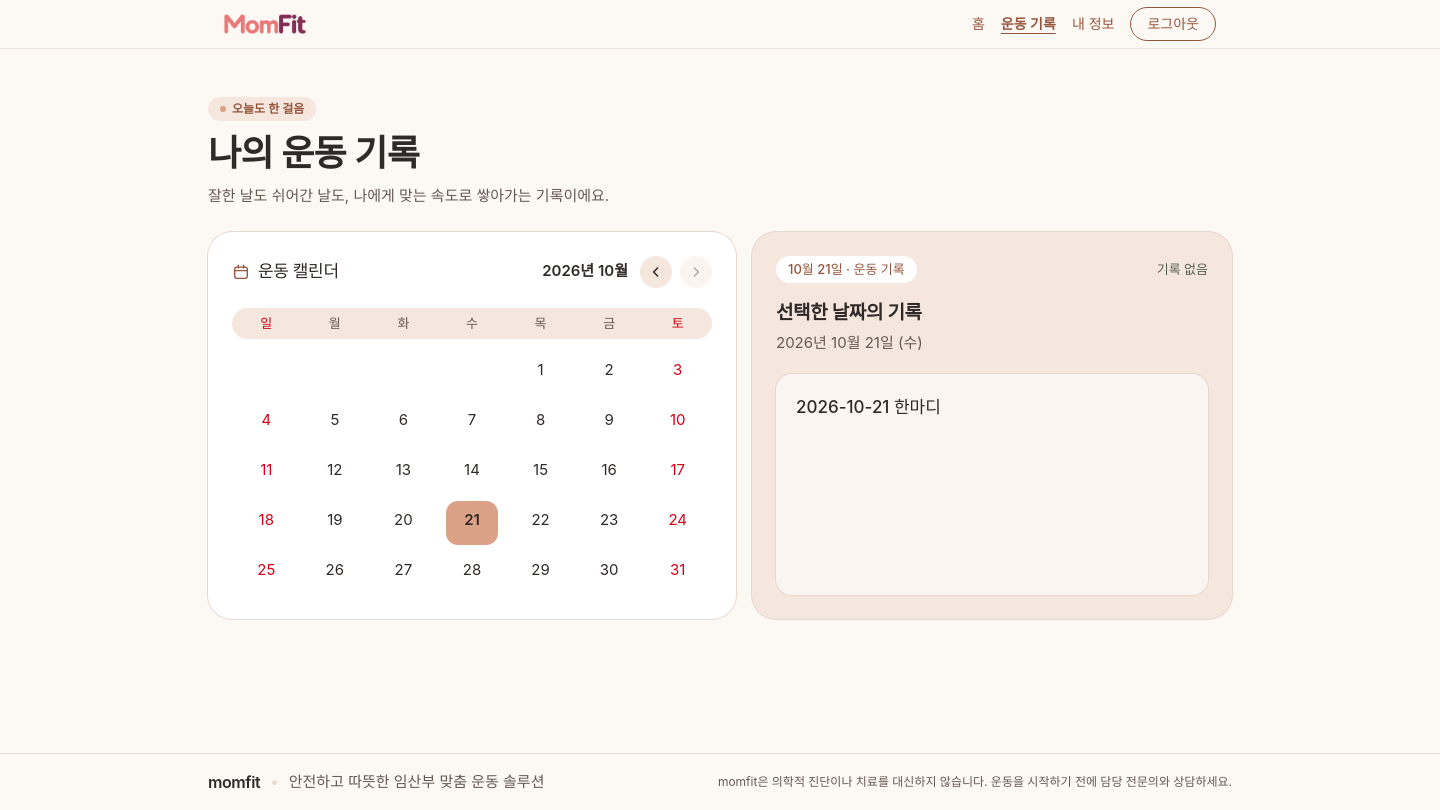
Test: RecordsPage › 아직 오지 않은 날을 고르면 리포트를 부르지 않는다
Expected: the text "2026-10-21 한마디" is shown, [796, 397, 941, 417]
Click the button named "10월 22일". click: (541, 523)
box: [515, 501, 567, 545]
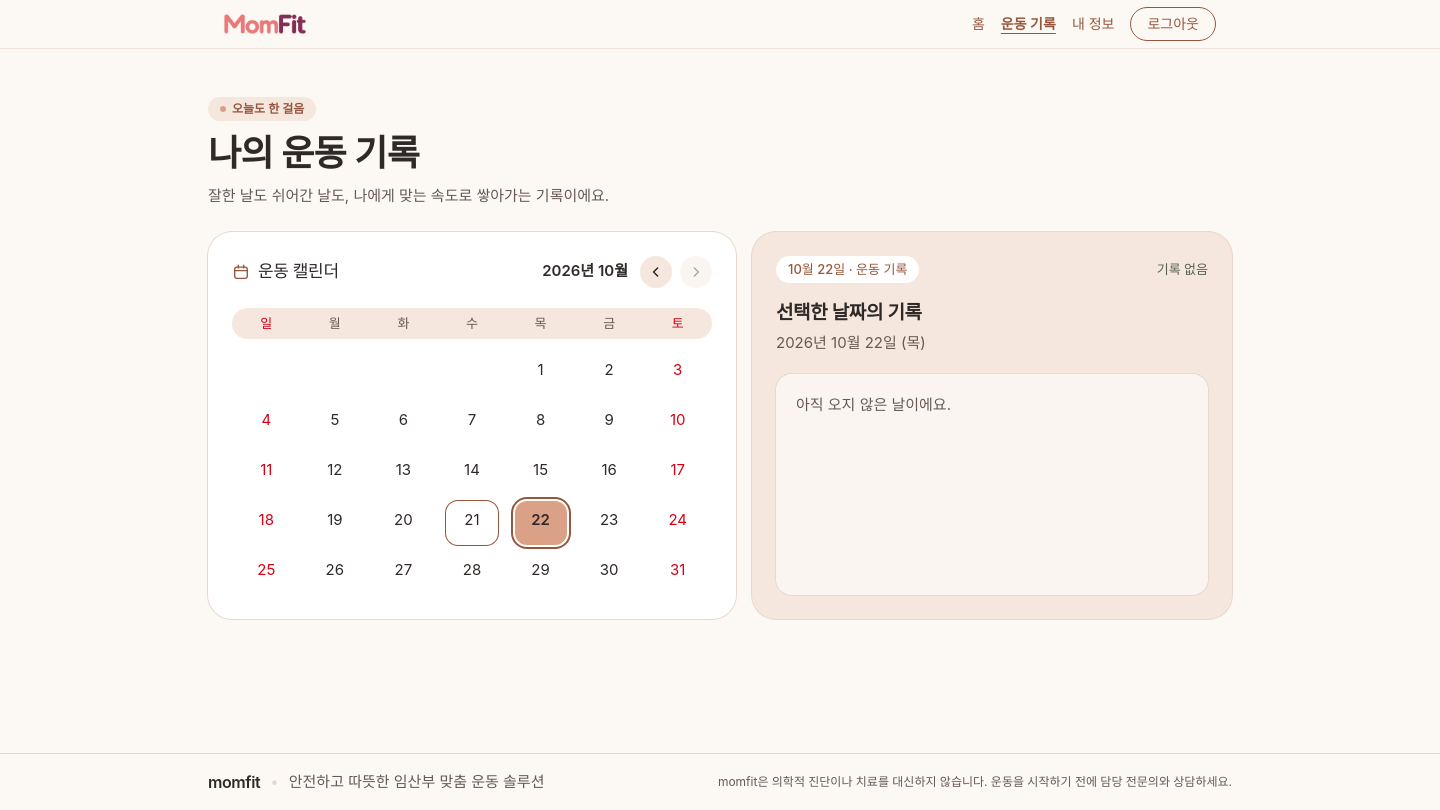
Now the text "아직 오지 않은 날이에요." is shown, box [796, 395, 951, 414]
